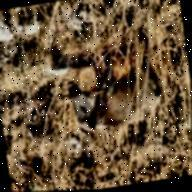boar: (52, 42, 177, 147)
